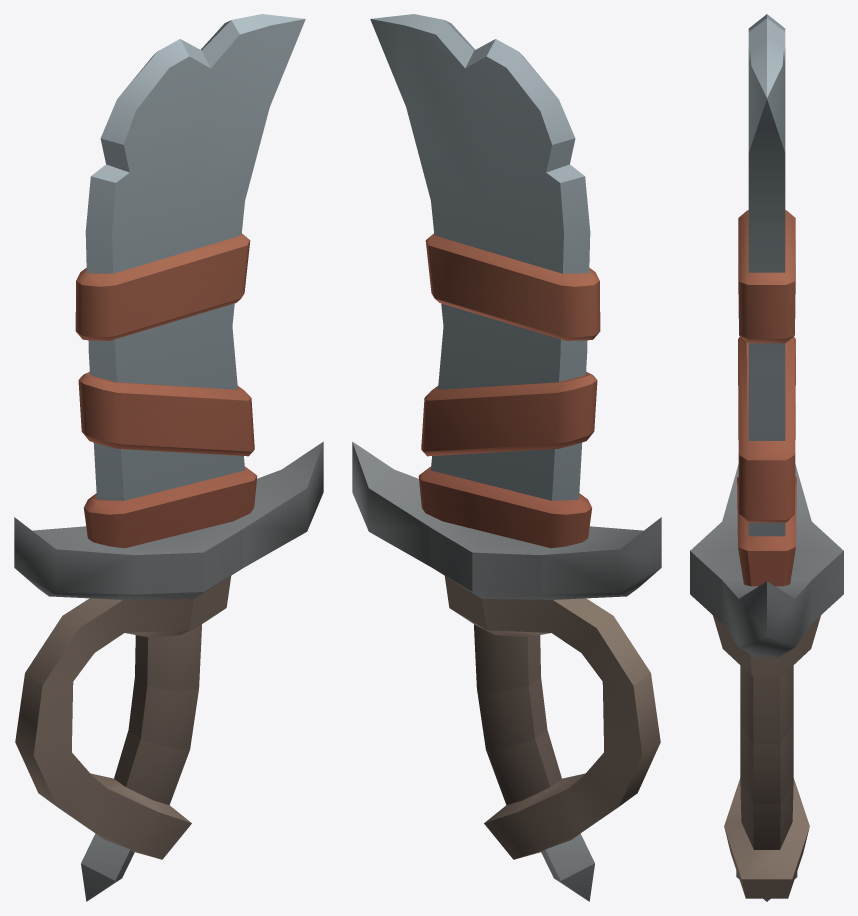
File: Blade.glb
3 views of the same model, side by side, from view 1: azimuth 30°, elevation 25°; view 2: azimuth 150°, elevation 25°; view 3: azimuth 270°, elevation 25° (orthographic). The views are drawn at different scales.
Parts seen in each view (by area): view 1: Skeleton_Blade; view 2: Skeleton_Blade; view 3: Skeleton_Blade.
Part boxes in pixels (x1,y1,x2,y2): Skeleton_Blade: (14,14,323,901); Skeleton_Blade: (352,14,661,901); Skeleton_Blade: (690,14,843,901).
Bounding box in the file's own units: 0.5727 × 1.5 × 0.2223.
Materials: 1 (1 with a texture image).
